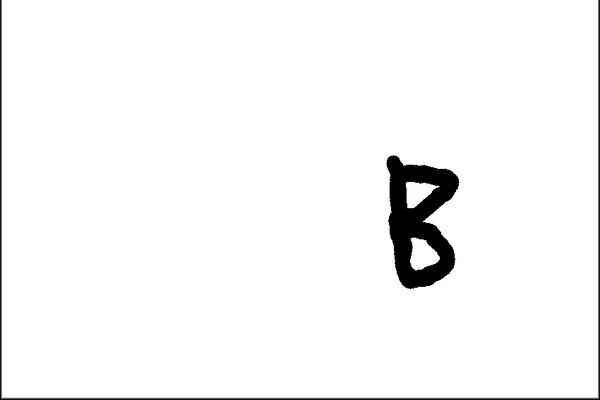B: (374, 144, 469, 294)
